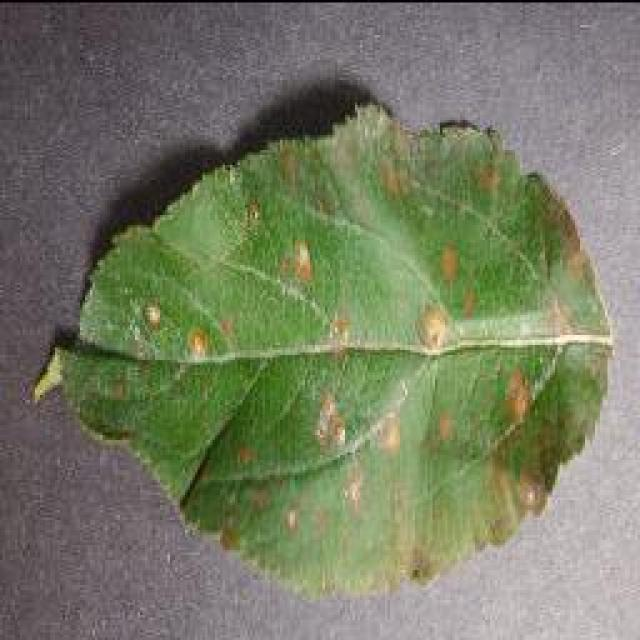apple cedar apple rust: (30, 100, 615, 602)
